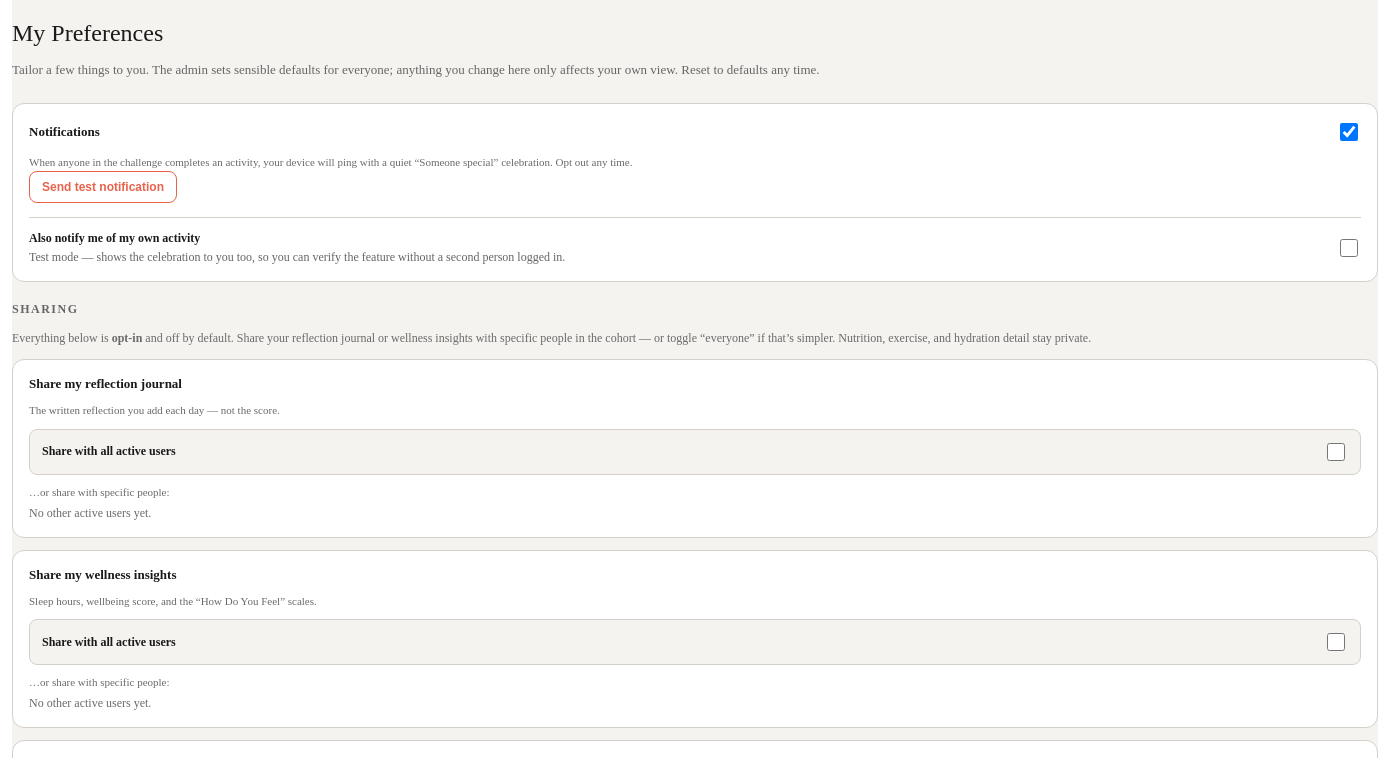
MyPreferences › test notification button › shows a confirmation after the test notification is sent successfully
Click the button "Send test notification".
click(103, 187)  # box top-left (29, 171), bottom-right (177, 203)
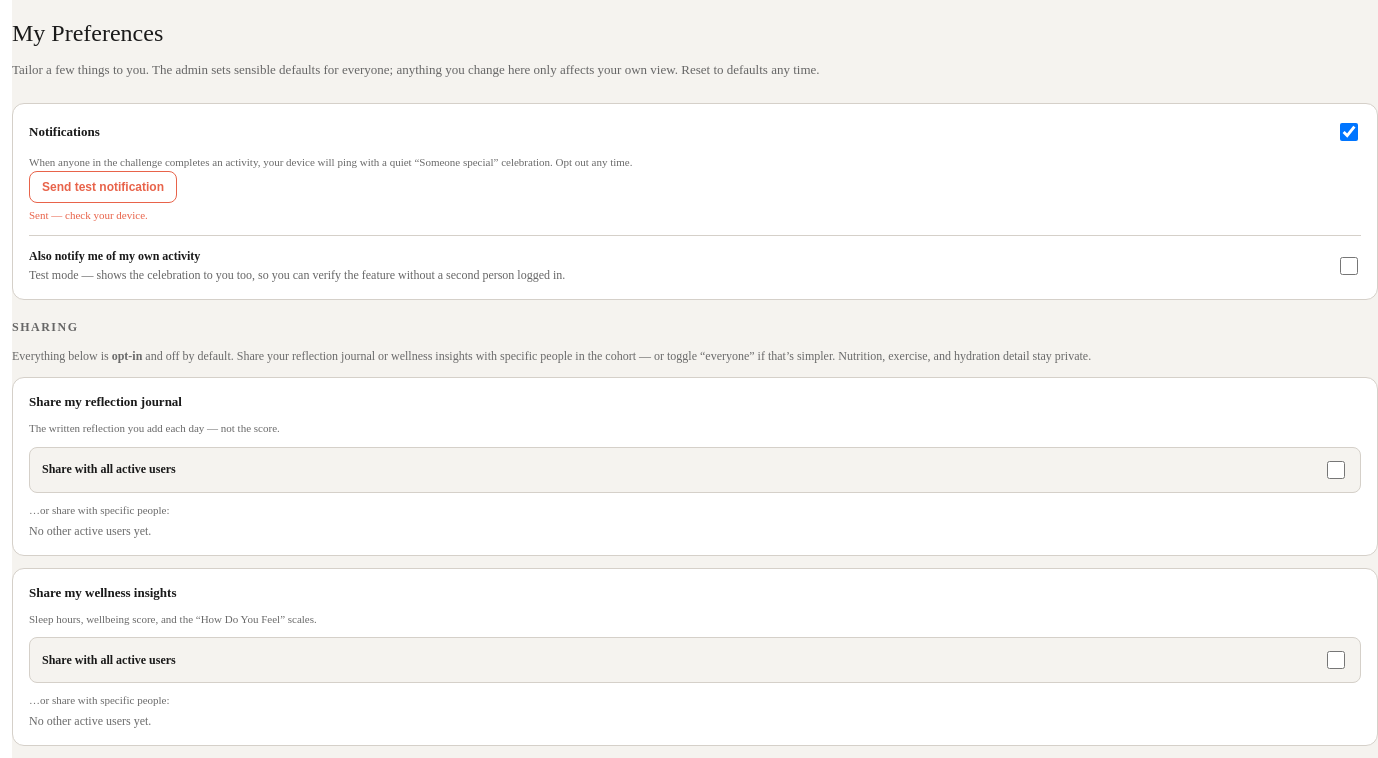
Result: the text "Sent — check your device." is shown at top-left (29, 209), bottom-right (148, 221)
